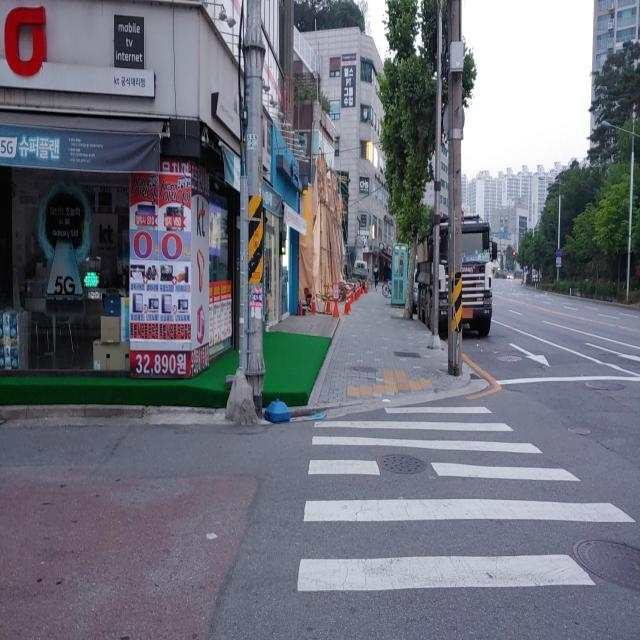횡단보도: (296, 403, 638, 593)
